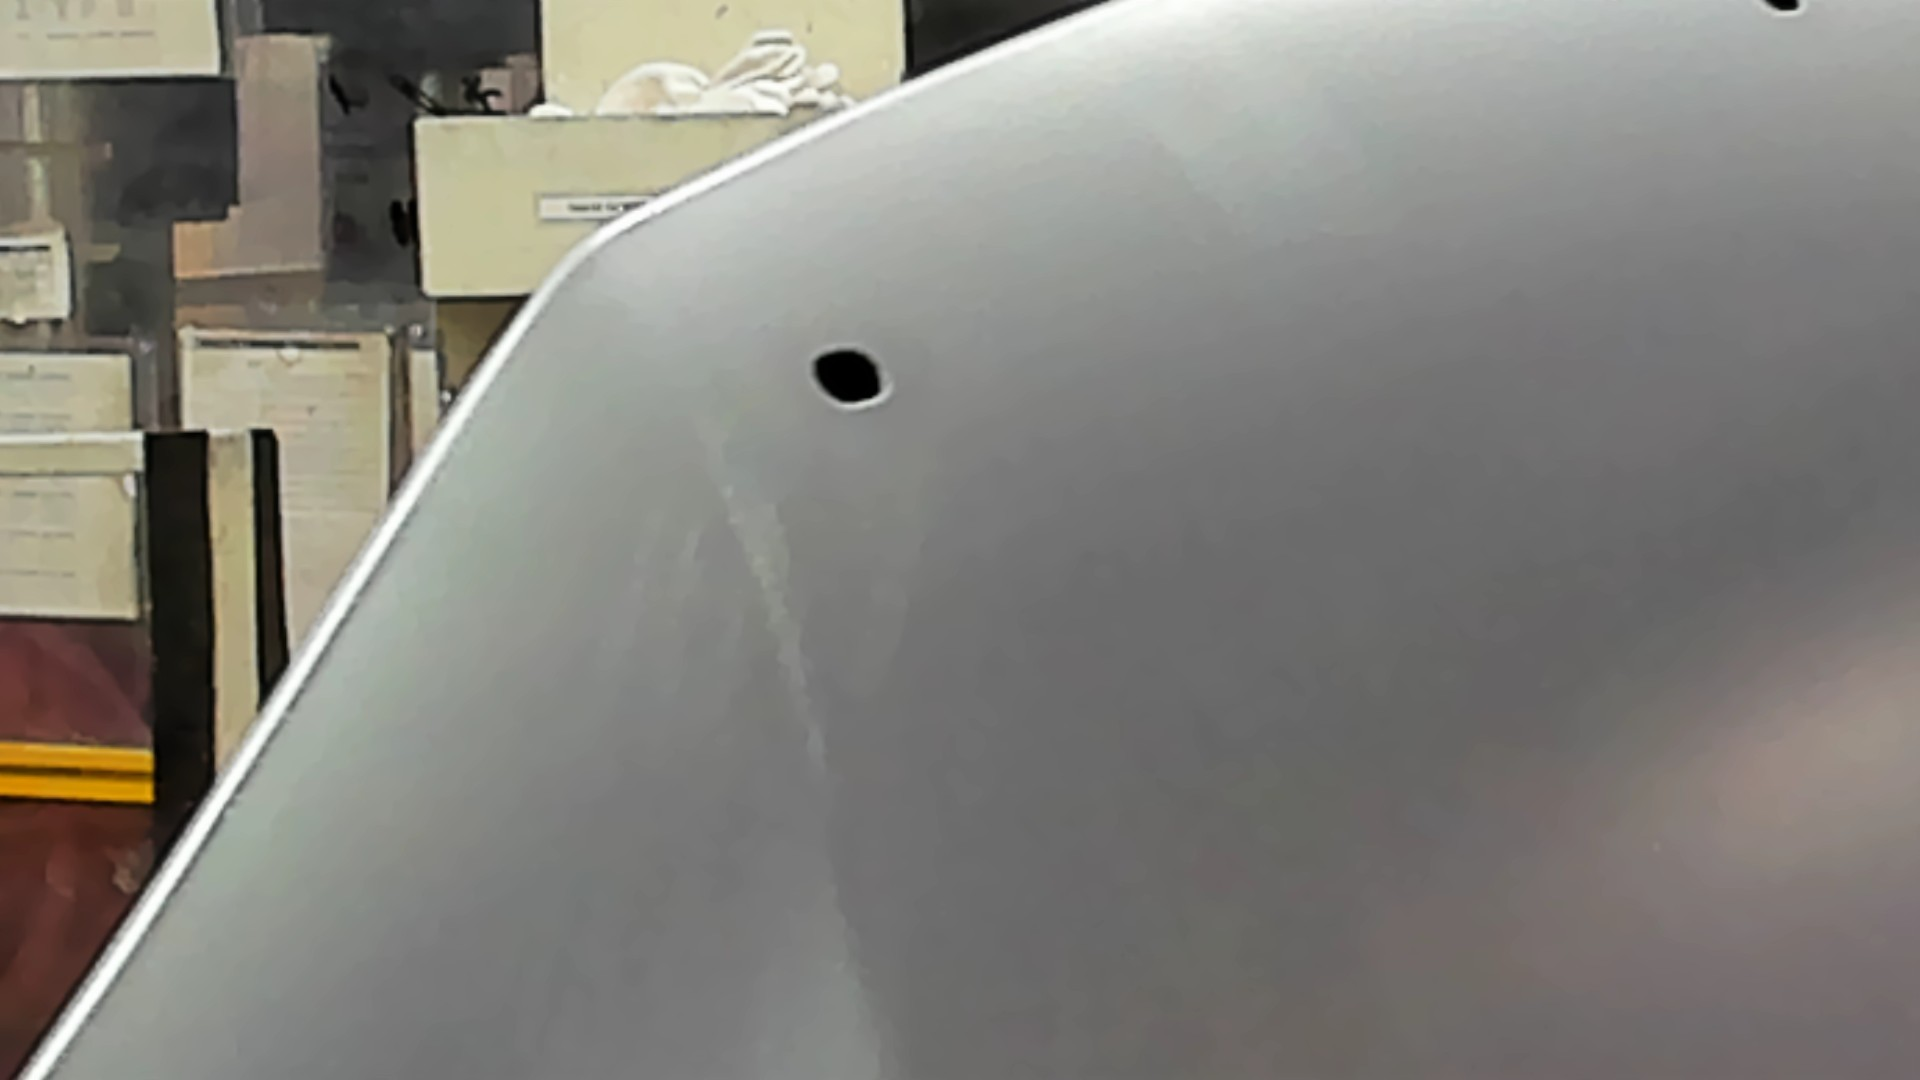amorfo: (800, 334, 895, 414), (1759, 1, 1809, 18)
